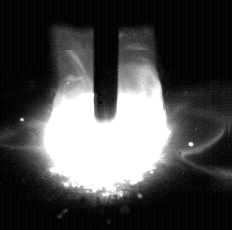arame: (95, 0, 118, 123)
poca: (43, 0, 170, 230)
